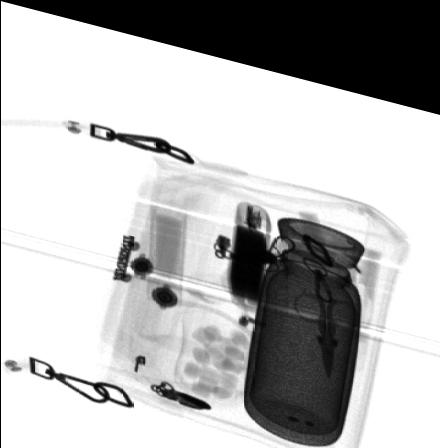Powerbank: (226, 186, 271, 301)
Scissors: (291, 274, 361, 363)
